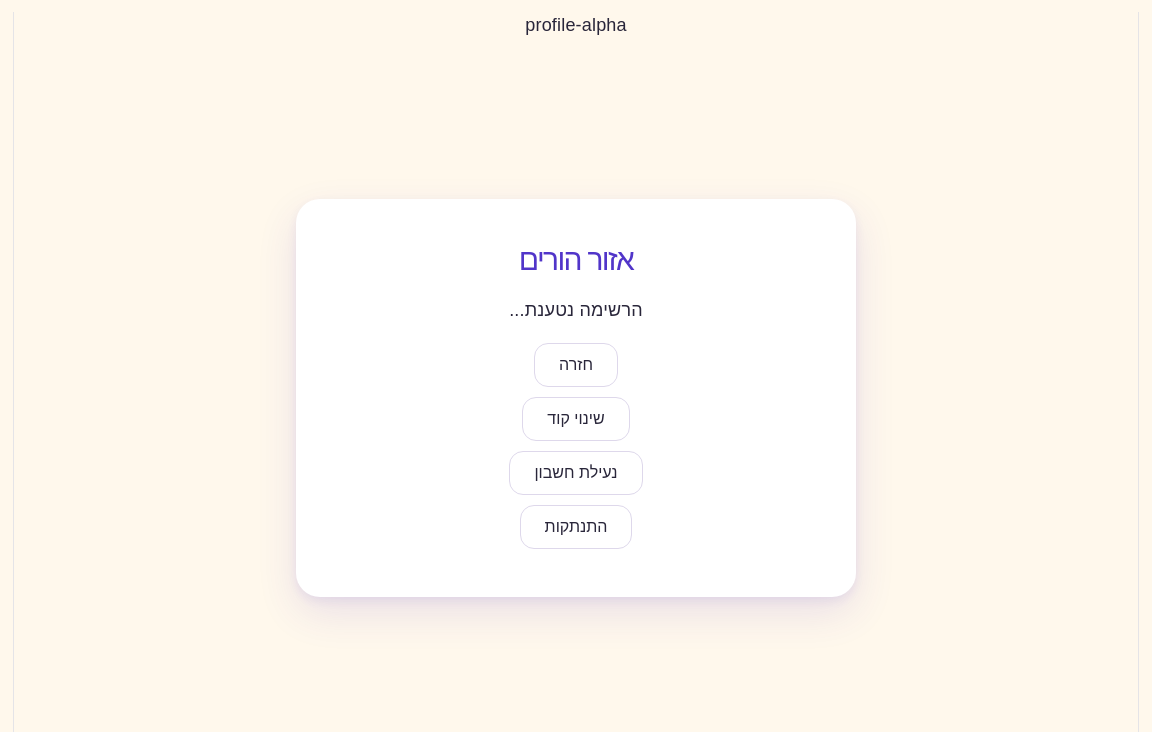
Test: ParentZonePage — gate hand-off › keeps the change-PIN form open with a localized error when the current PIN is wrong
The image size is (1152, 732).
Click the button "שינוי קוד" at (576, 419), box [522,397,630,441]
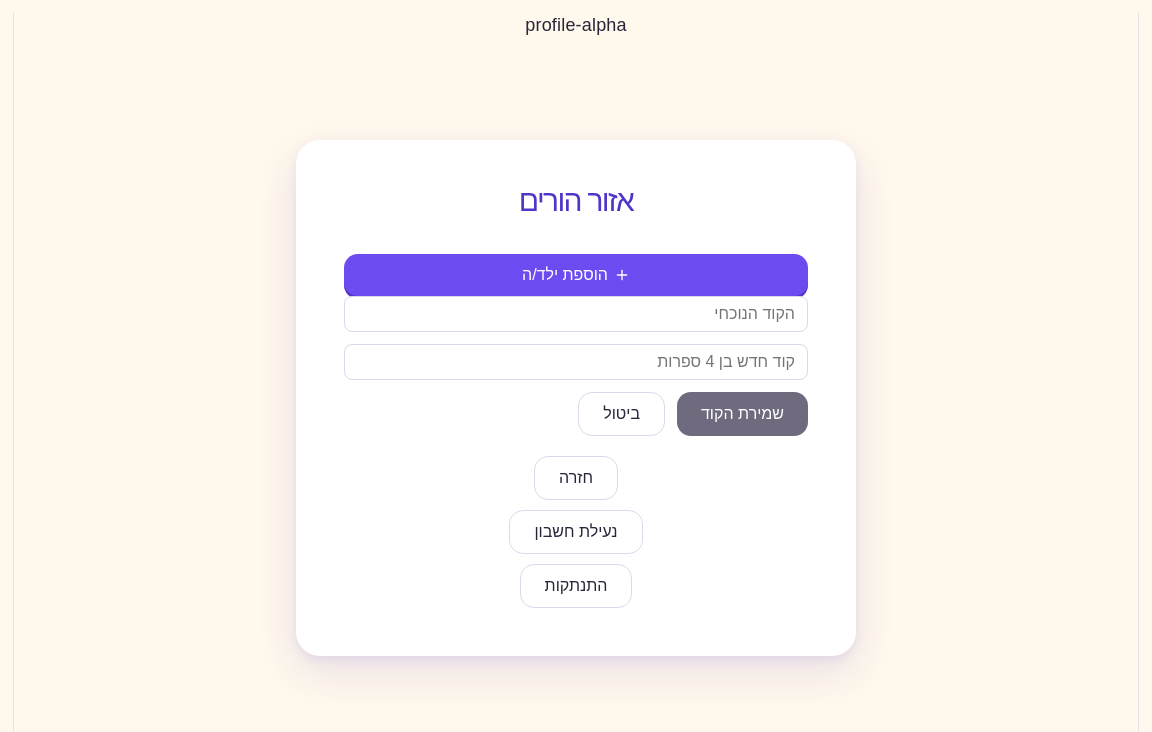
Type "0000" into the password field labelled "הקוד הנוכחי" at (576, 314), box [344,296,808,332]
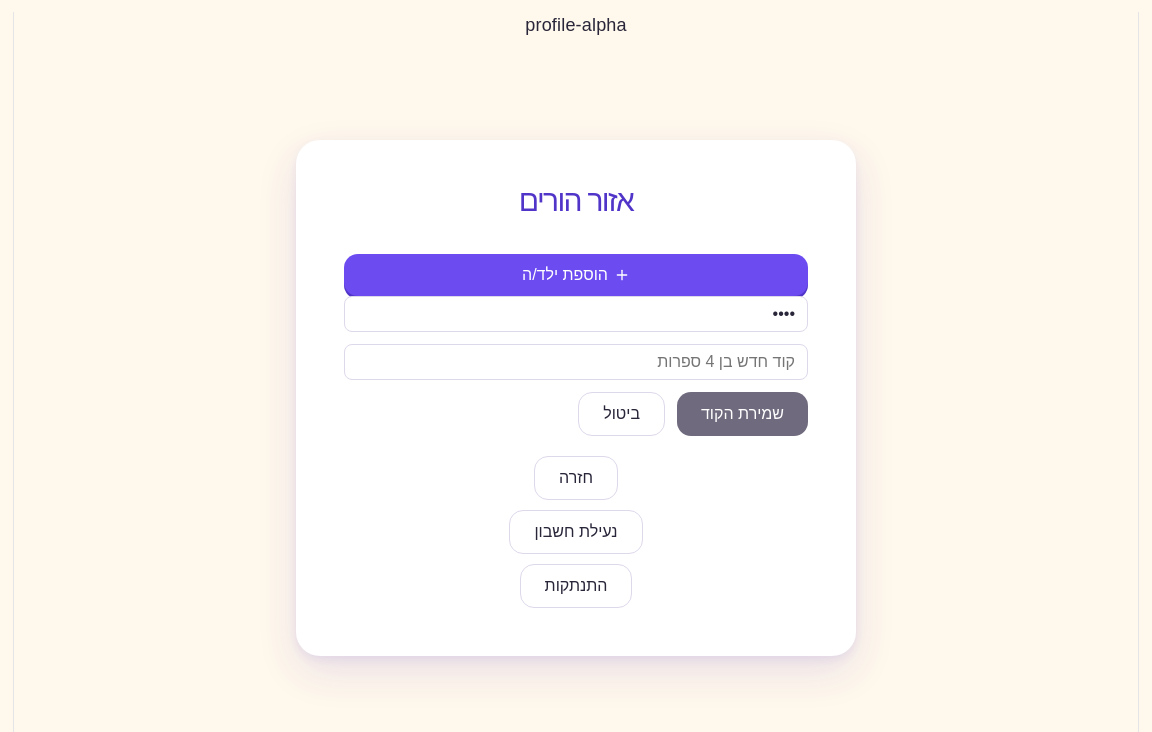
Type "5678" into the password field labelled "קוד חדש בן 4 ספרות" at (576, 362), box [344,344,808,380]
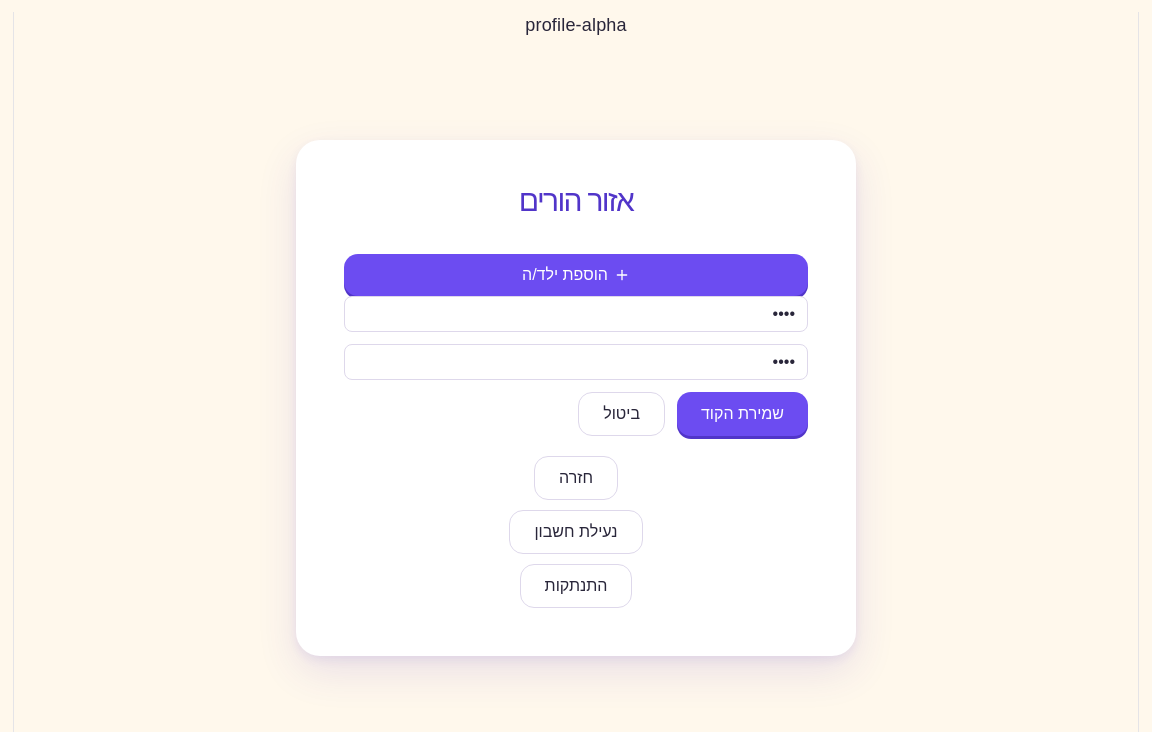
Click the button "שמירת הקוד" at (742, 414), box [677,392,808,436]
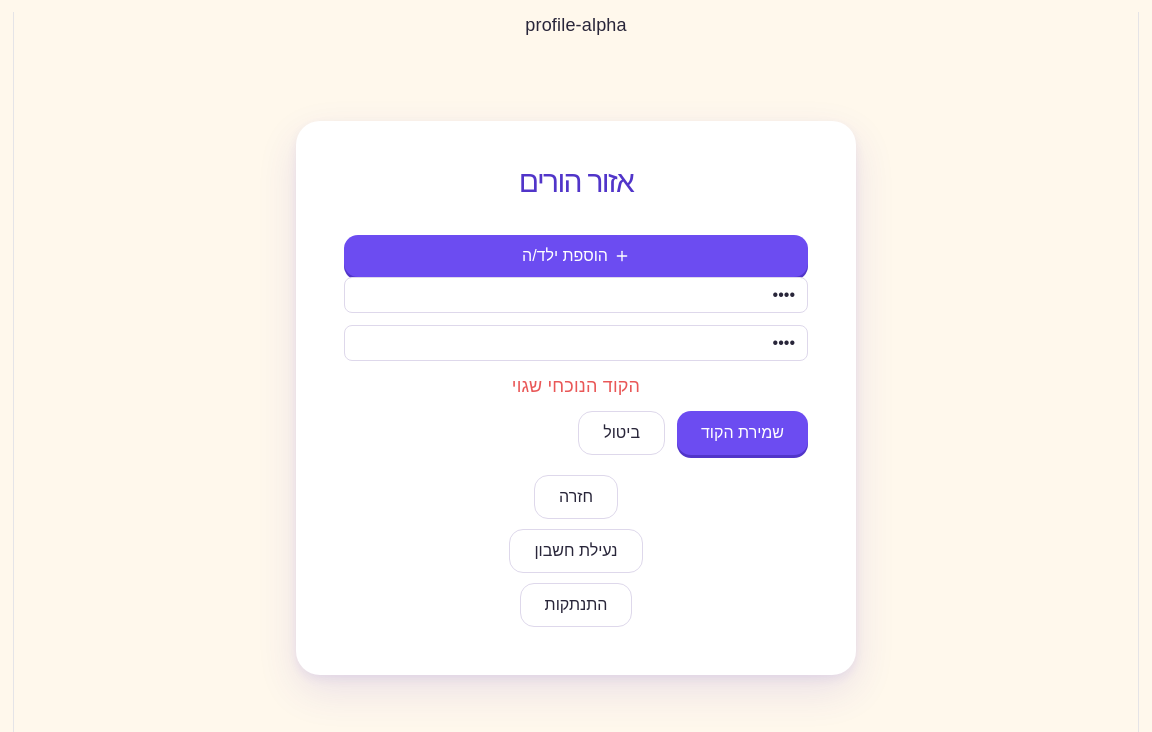
Check: the text "הקוד הנוכחי שגוי" is shown, box [512,376,640,396]
